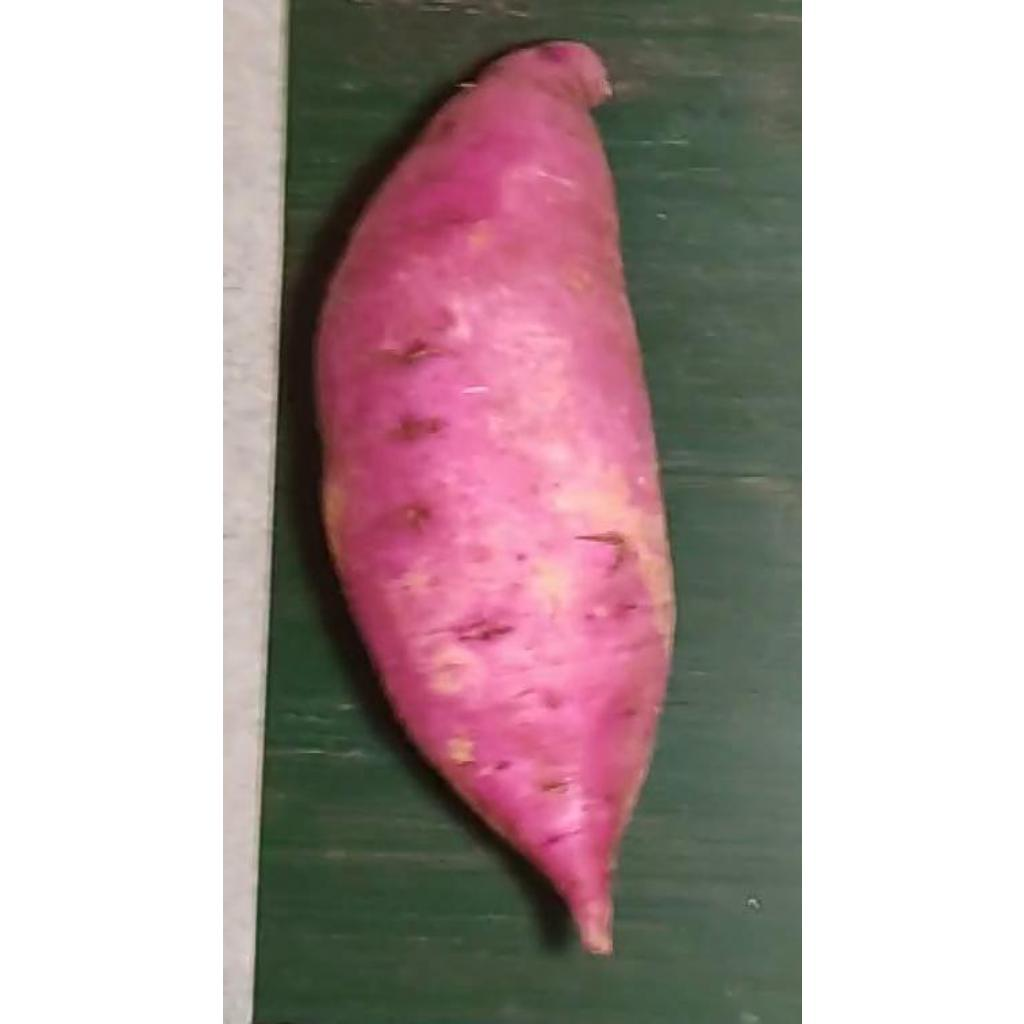Sweet Potato: (309, 42, 677, 960)
